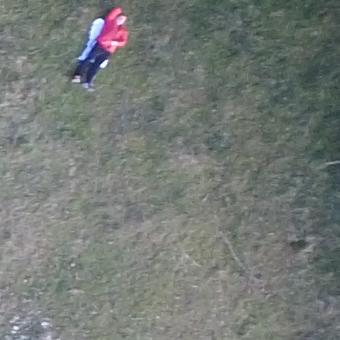human: (70, 8, 132, 90)
